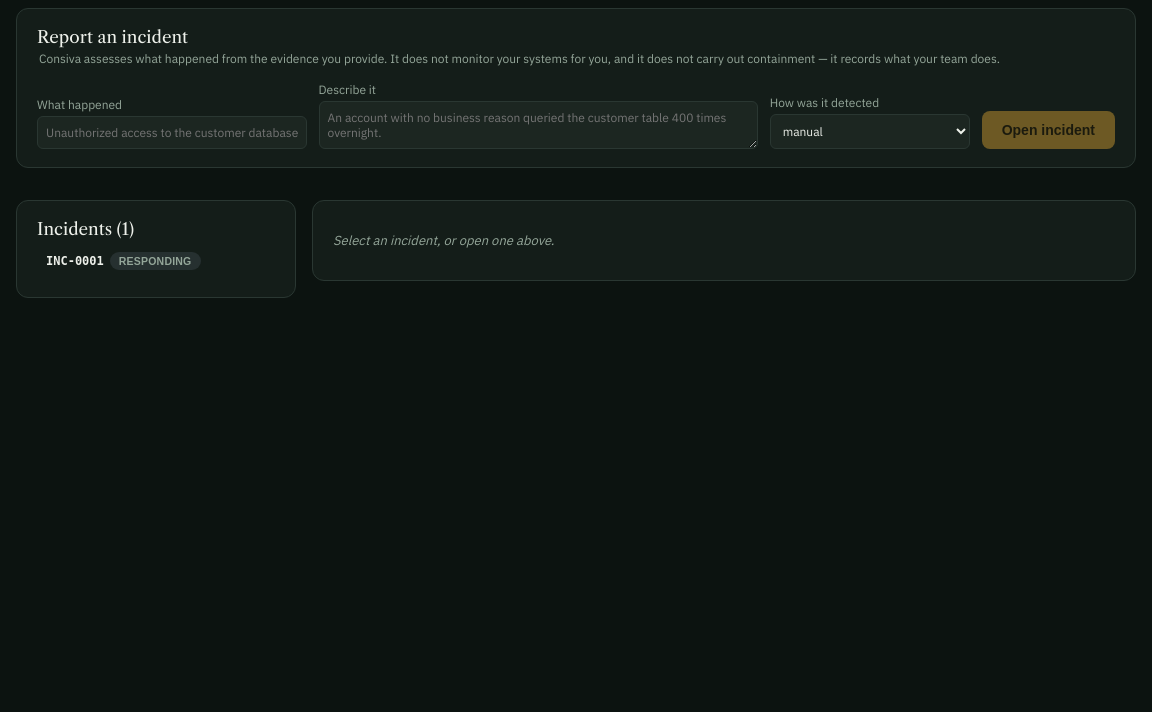
BreachConsole: recording a containment action as failed › records a failure with a reason and shows the result
Click the button "INC-0001 responding" at point(156, 261), box 37,243 -> 275,279
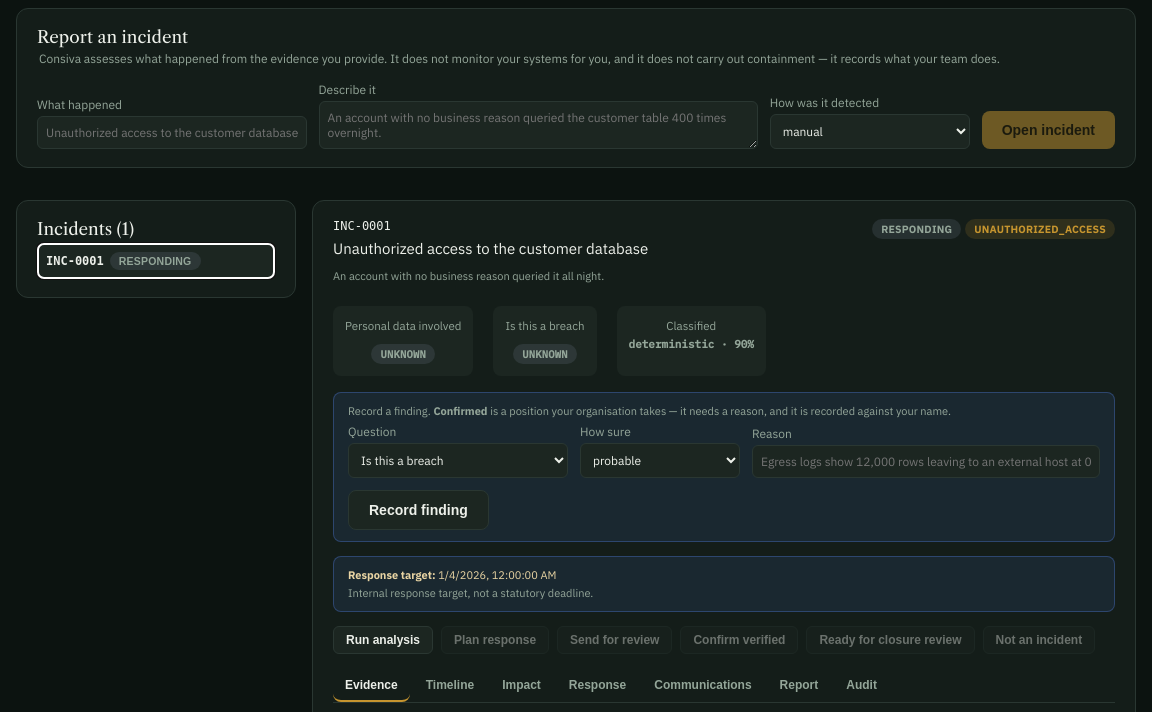
Click the button "response" at point(598, 686), box 557,670 -> 638,702
(page scrolled)
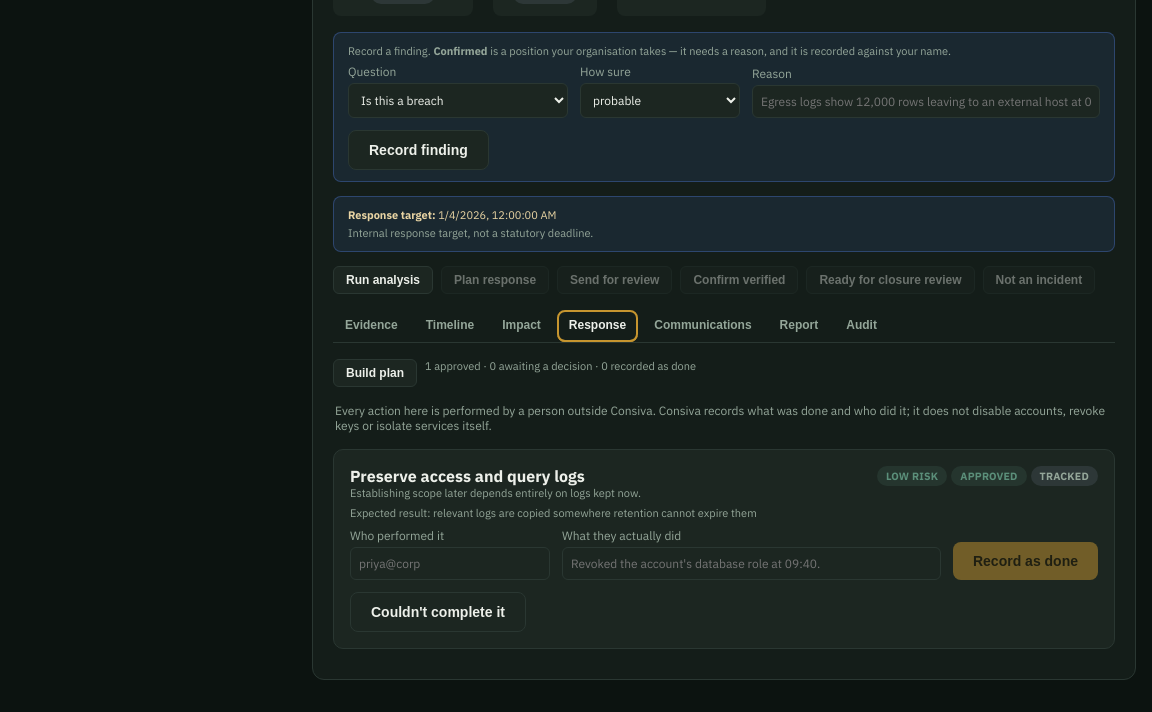
expect the text "Preserve access and query logs" is shown: met, box 350,466 -> 585,486
Click the button "Couldn't complete it" at point(438, 612), box 350,592 -> 526,632
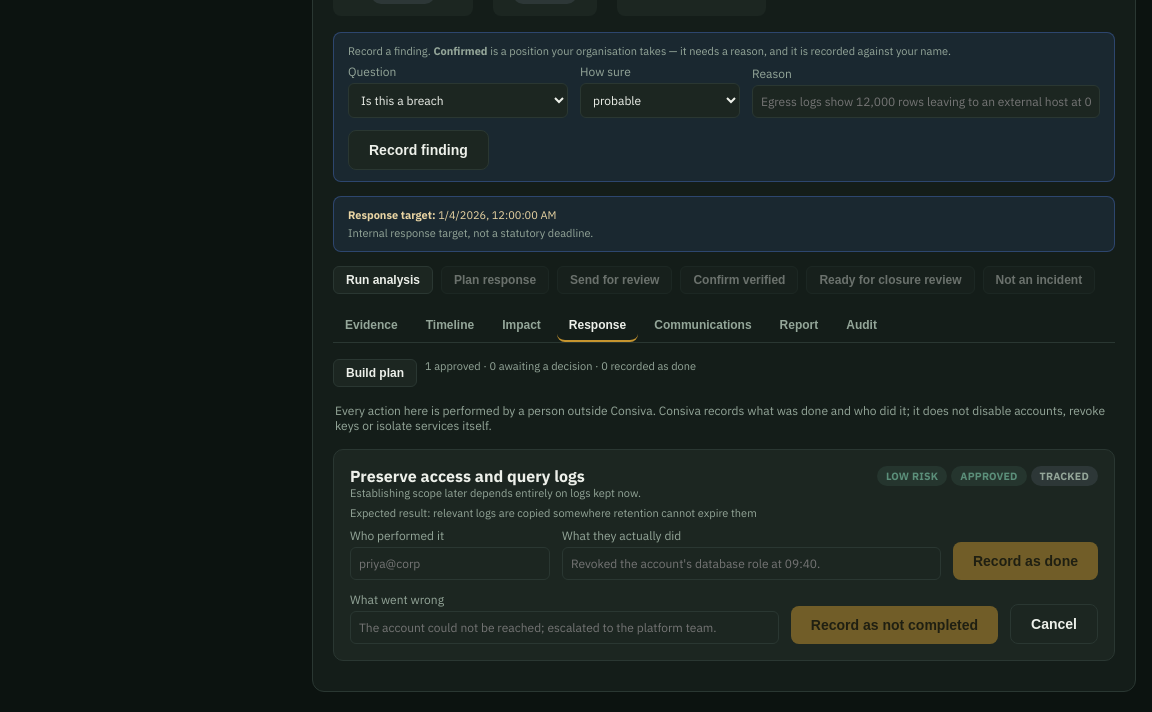
Type "The account could not be reached." into the field labelled "What went wrong" at point(564, 628), box 350,611 -> 779,644
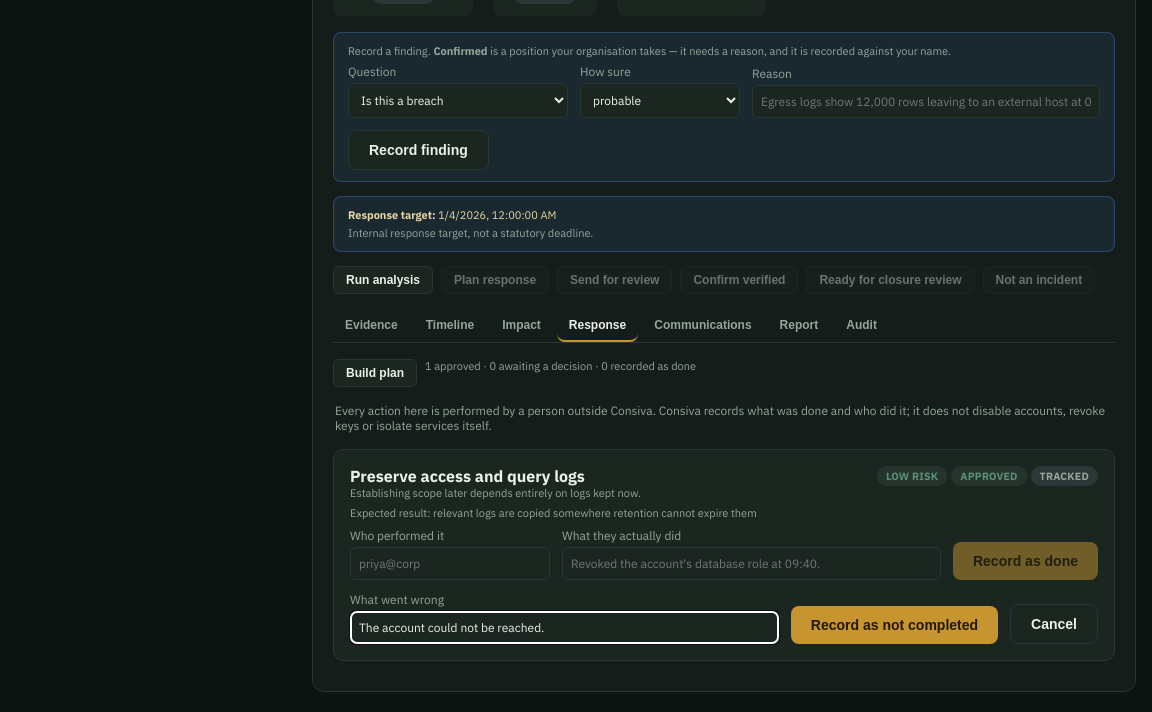
Click the button "Record as not completed" at point(894, 625), box 791,606 -> 998,644
(page scrolled)
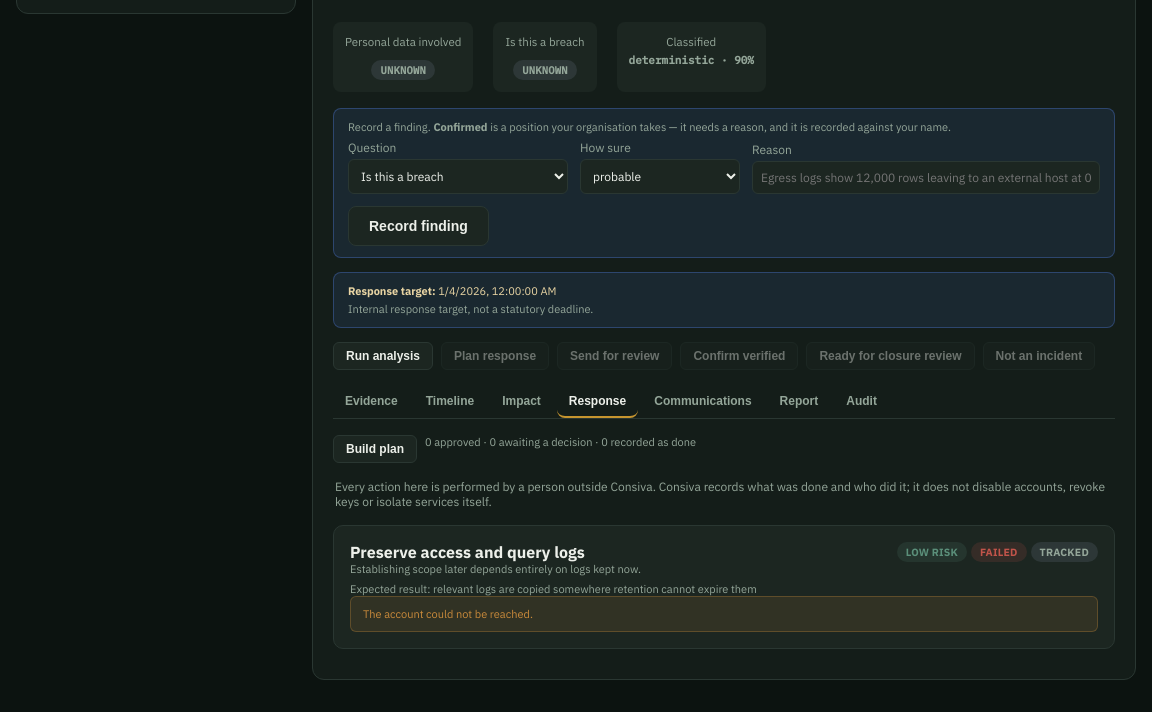
expect the text "The account could not be reached." is shown: met, box 350,596 -> 1098,632
